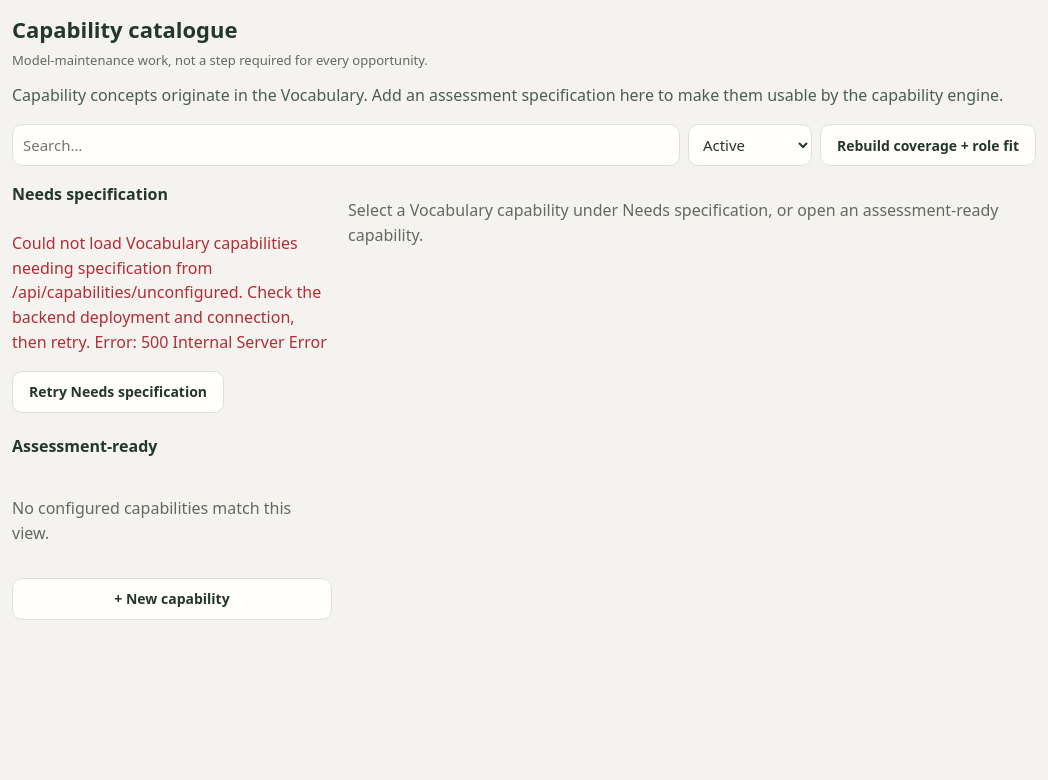
Test: retries failed loading and clears the error after recovery
The width and height of the screenshot is (1048, 780).
Click the button "Retry Needs specification". click: (118, 392)
box: [12,371,224,413]
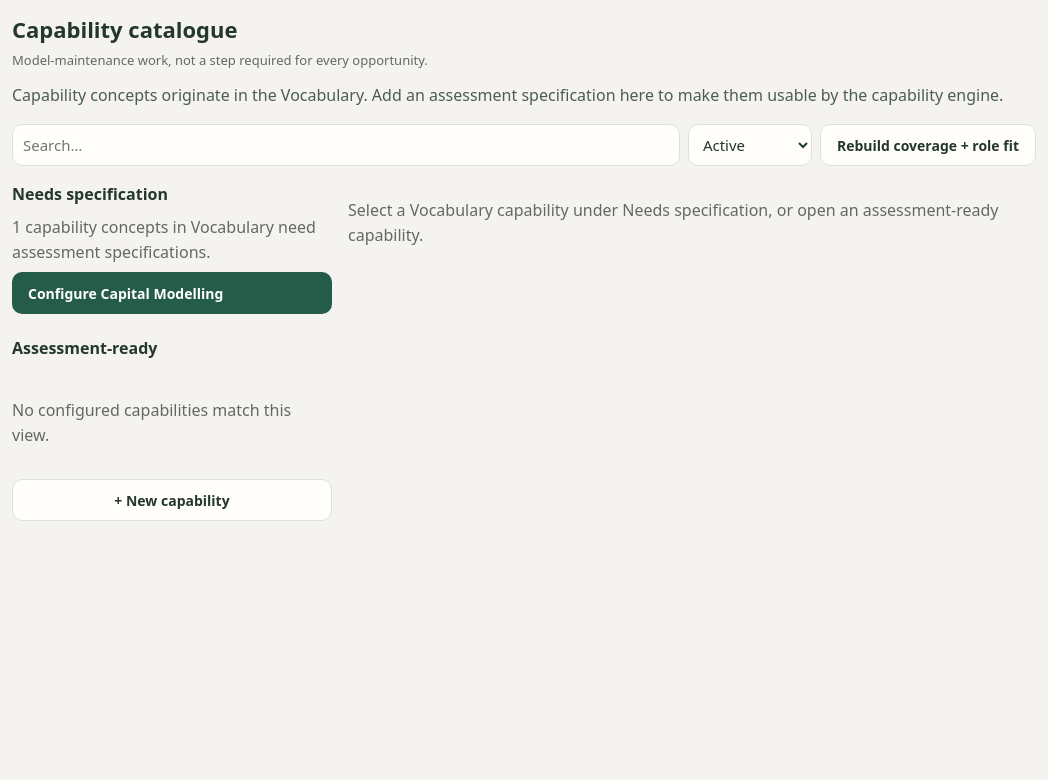
Result: the button "Configure Capital Modelling" is shown at [12,272,332,314]
Result: the message is gone
